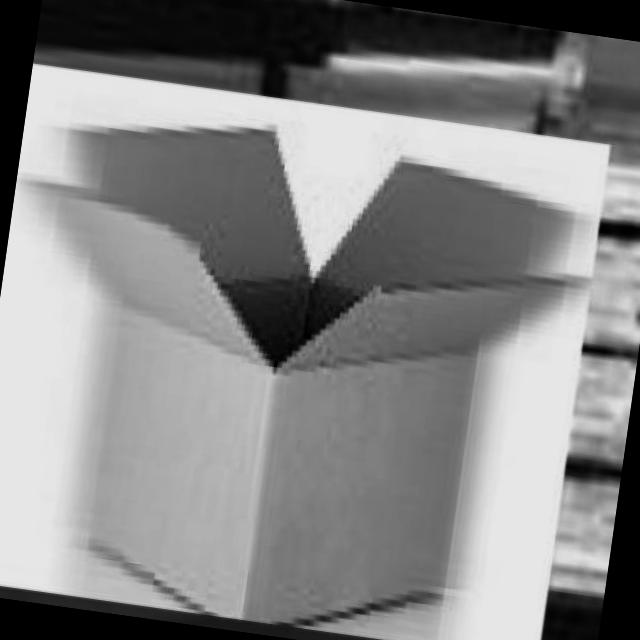box: (0, 55, 622, 640)
